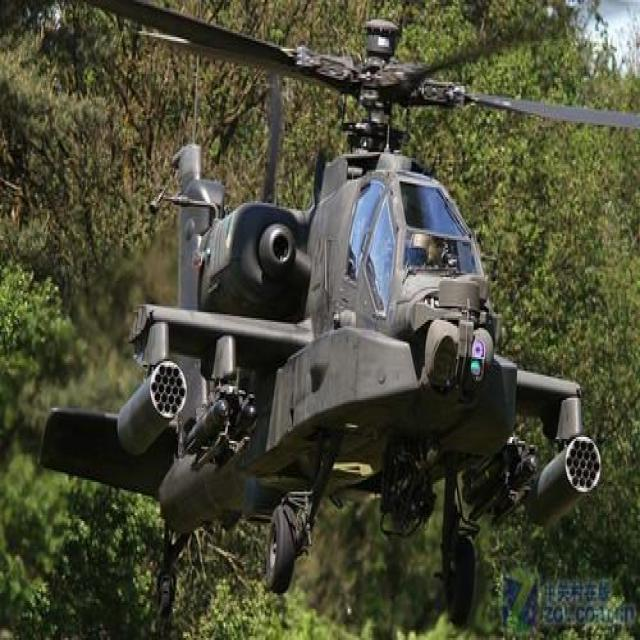MIL_HELO: (37, 4, 640, 622)
